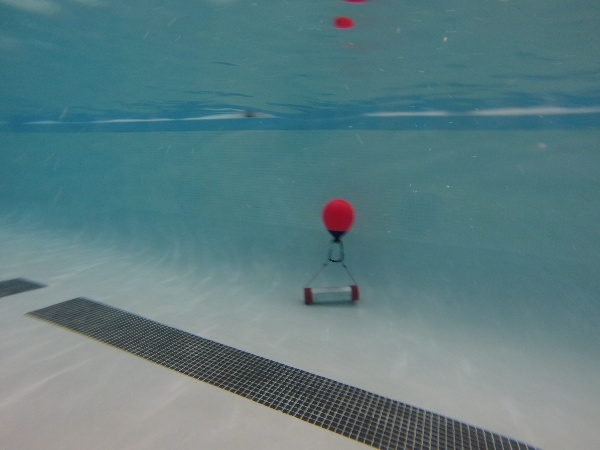buoy_red: (318, 197, 356, 243)
